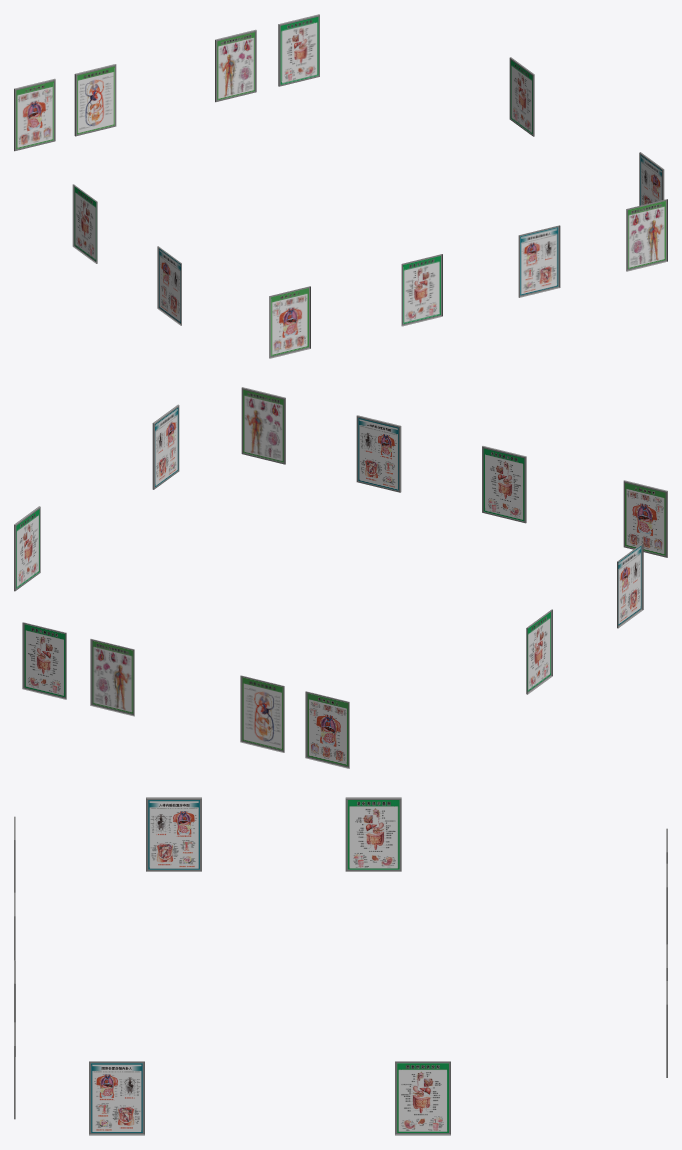
Rendered from SM_海报牌.fbx.
The picture shows the model from 3 angles, top to bottom: view 1: azimuth 30°, elevation 25°; view 2: azimuth 150°, elevation 25°; view 3: azimuth 270°, elevation 25°; orthographic projection. The views are drawn at different scales.
Parts seen in each view (by area): view 1: SM_海报牌; view 2: SM_海报牌; view 3: SM_海报牌.
Boxes of the visible parts, <box> form: SM_海报牌: <box>14,14,667,358</box>; SM_海报牌: <box>14,387,667,768</box>; SM_海报牌: <box>14,797,667,1135</box>.
Bounding box in the file's own units: 10235 × 1326 × 10692.
